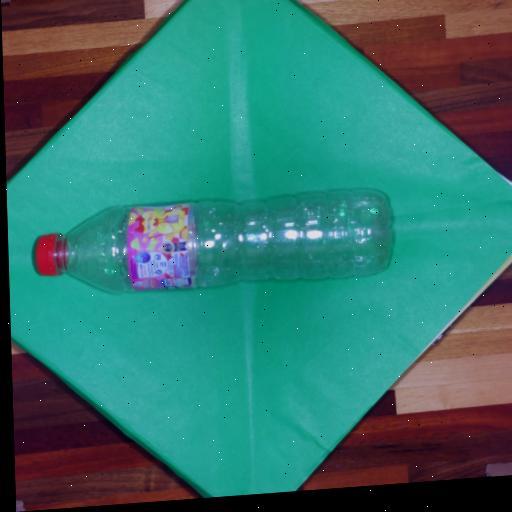bottle: (35, 180, 392, 302)
